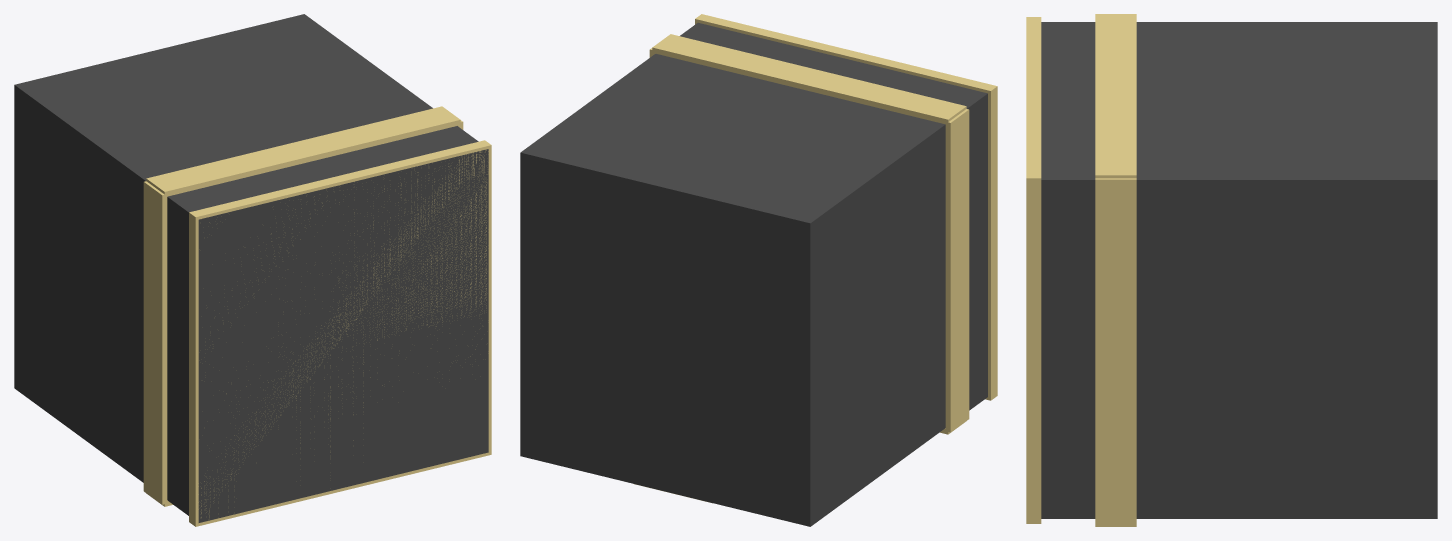
Rendered from kaaba.glb.
3 renders of one model, left to right at view 1: azimuth 30°, elevation 25°; view 2: azimuth 150°, elevation 25°; view 3: azimuth 270°, elevation 25°, orthographic. The views are drawn at different scales.
Parts seen in each view (by area): view 1: Kaaba, RoofTrim, GoldBandLeft, GoldBandBack; view 2: Kaaba, GoldBandLeft, GoldBandBack, RoofTrim; view 3: Kaaba, GoldBandRight, RoofTrim, GoldBandBack.
Part boxes in pixels (left/top/right/bottom): Kaaba: left=14, top=14, right=488, bottom=522; RoofTrim: left=189, top=140, right=491, bottom=526; GoldBandLeft: left=143, top=181, right=167, bottom=504; GoldBandBack: left=146, top=106, right=460, bottom=196; Kaaba: left=520, top=22, right=987, bottom=526; GoldBandLeft: left=945, top=109, right=969, bottom=432; GoldBandBack: left=652, top=34, right=966, bottom=124; RoofTrim: left=695, top=14, right=997, bottom=400; Kaaba: left=1041, top=22, right=1437, bottom=518; GoldBandRight: left=1095, top=178, right=1136, bottom=525; RoofTrim: left=1026, top=17, right=1041, bottom=523; GoldBandBack: left=1095, top=14, right=1136, bottom=178.
Size of the model in its own units: 2.08 by 2.09 by 2.2.
